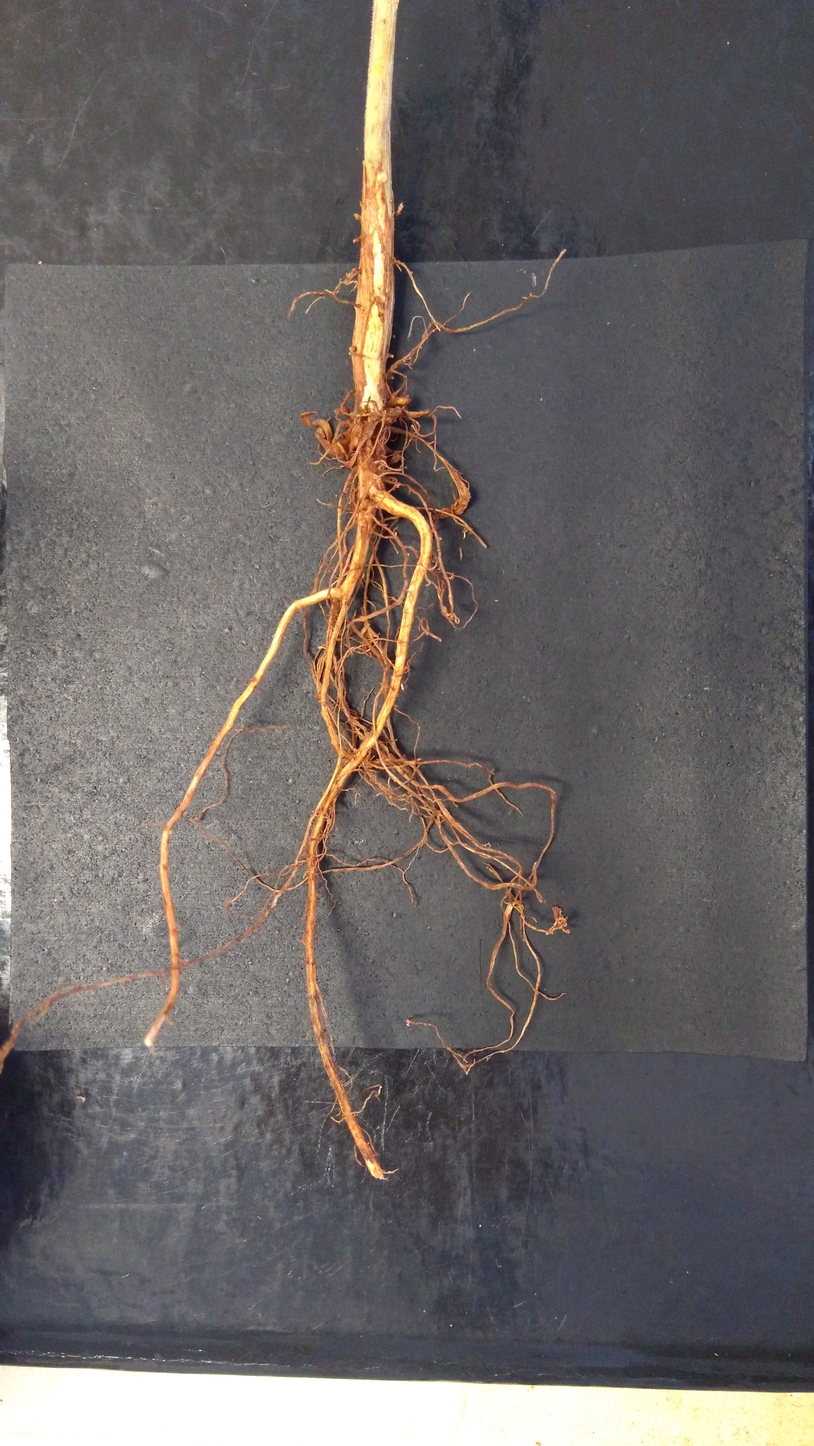nodule: (344, 420, 362, 450), (383, 406, 402, 425), (361, 438, 375, 462), (454, 495, 468, 515), (330, 440, 346, 457), (389, 395, 411, 406), (334, 406, 351, 416), (391, 448, 402, 463), (359, 498, 371, 510), (367, 411, 379, 422), (348, 345, 356, 353), (354, 213, 361, 221), (352, 237, 360, 244), (369, 774, 376, 782)
